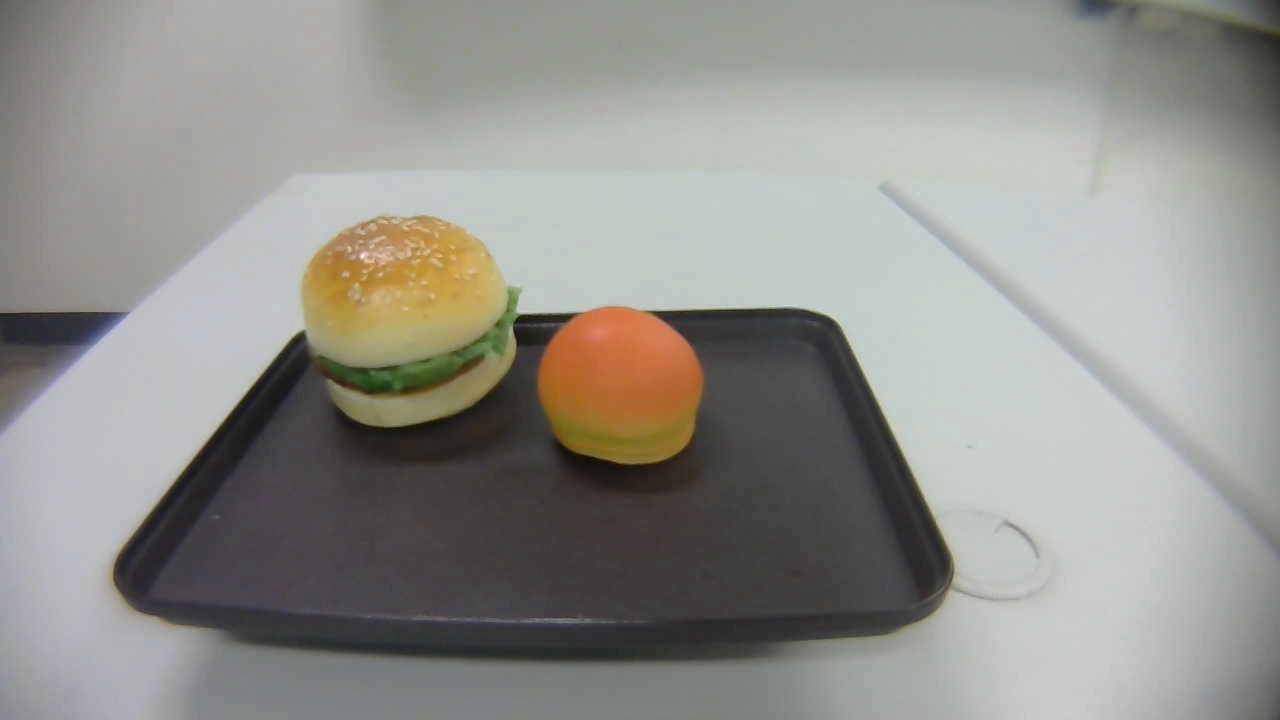bun: (537, 306, 705, 463)
hamburger: (302, 213, 521, 427)
